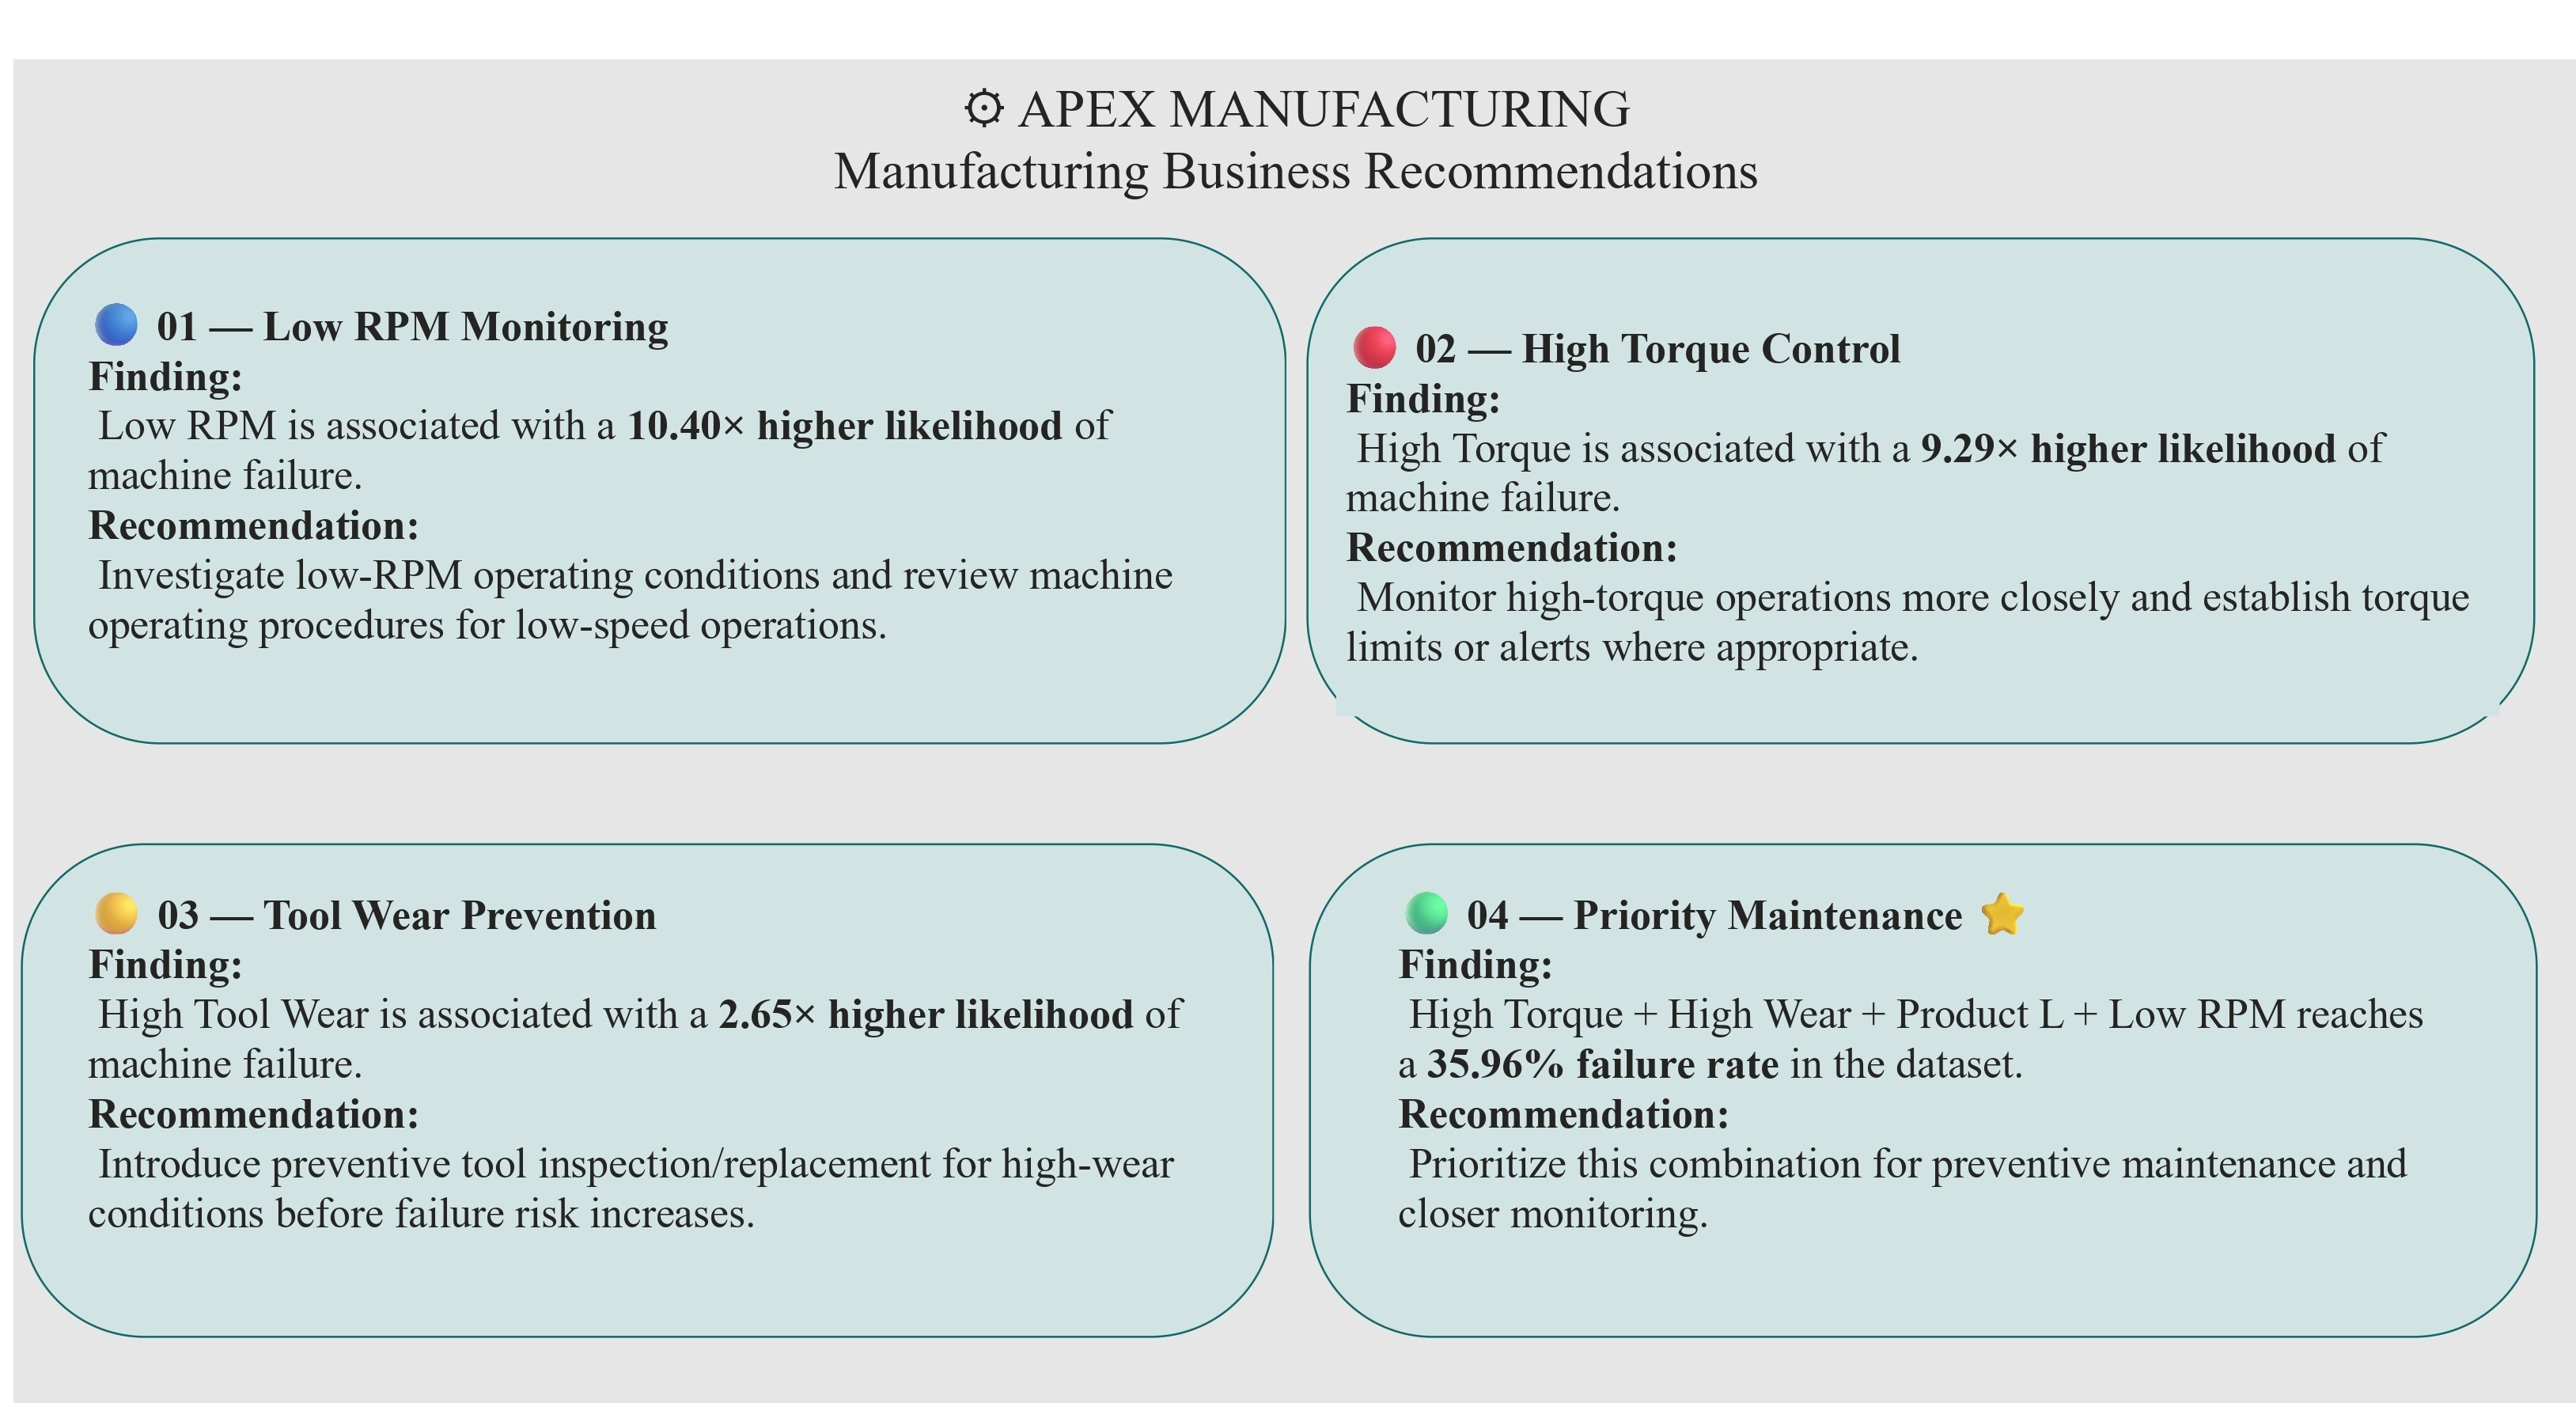

Layout of this report page (visuals, bound fields, positions):
{"tool":"powerbi","page":{"name":"Business Recommendations","canvas":[1280,720],"ordinal":4},"visuals":[{"type":"shape","box":[9.9,89.5,630.2,254.8],"z":0},{"type":"textbox","box":[32.3,113.1,574.2,188.9],"z":1},{"type":"shape","box":[650.1,89.5,617.8,254.8],"z":2},{"type":"textbox","box":[665,124.3,585.4,206.3],"z":3},{"type":"shape","box":[3.7,394,630.2,248.6],"z":4},{"type":"shape","box":[651.3,394,617.8,248.6],"z":5},{"type":"textbox","box":[32.3,408.9,574.2,205.1],"z":6},{"type":"textbox","box":[691.1,408.9,535.7,205.1],"z":7},{"type":"textbox","box":[9.9,0,1270.3,89.5],"z":8}]}

Visuals, with their boxes on the page's 1280x720 design canvas (x1, y1, x2, y2). These are canvas units, not pixel positions in the 2576x1403 screenshot, which may show the page scaled, cropped or inside an application window:
shape: bbox(10, 90, 640, 344)
textbox: bbox(32, 113, 606, 302)
shape: bbox(650, 90, 1268, 344)
textbox: bbox(665, 124, 1250, 331)
shape: bbox(4, 394, 634, 643)
shape: bbox(651, 394, 1269, 643)
textbox: bbox(32, 409, 606, 614)
textbox: bbox(691, 409, 1227, 614)
textbox: bbox(10, 0, 1280, 90)
